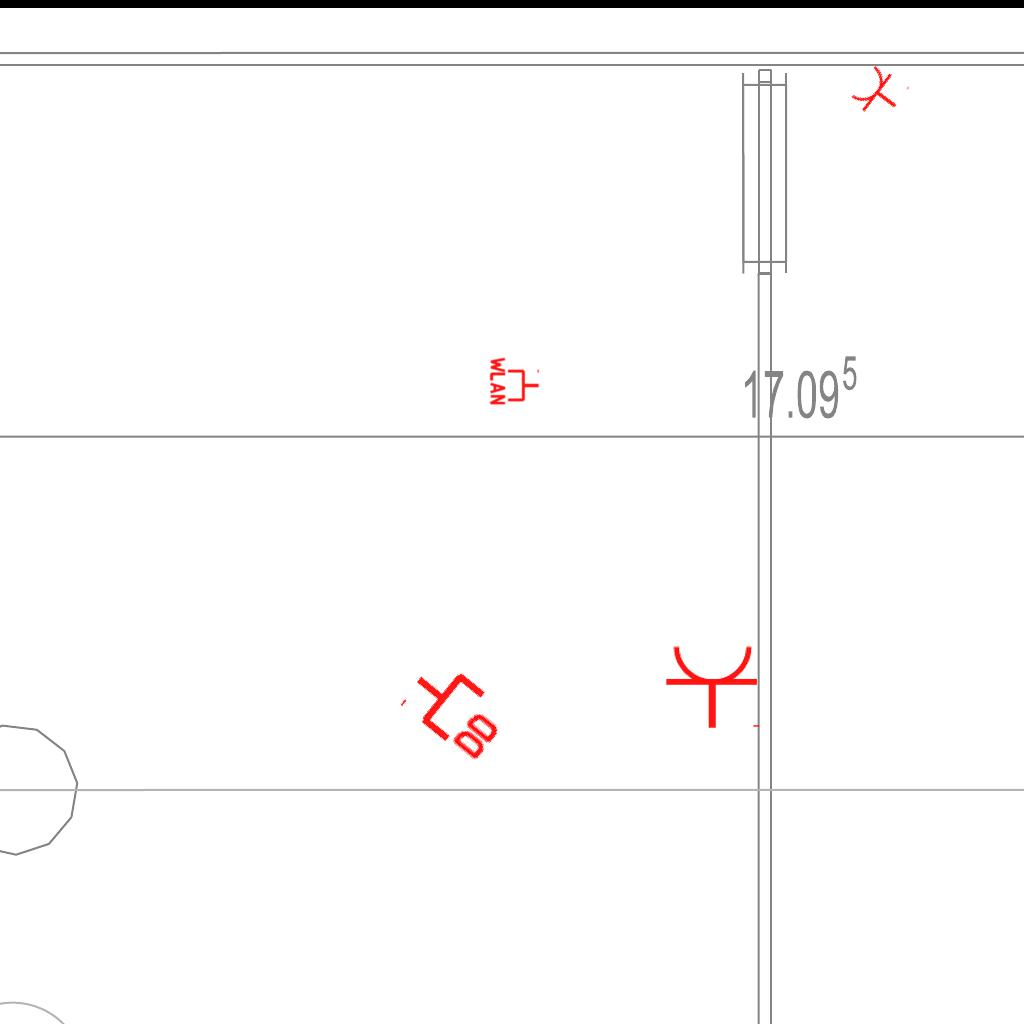Datenanschluss_zweifach: (395, 649, 520, 768)
Schukosteckdose_einfach: (664, 643, 764, 730), (847, 60, 912, 126)
WLAN: (489, 355, 541, 407)
